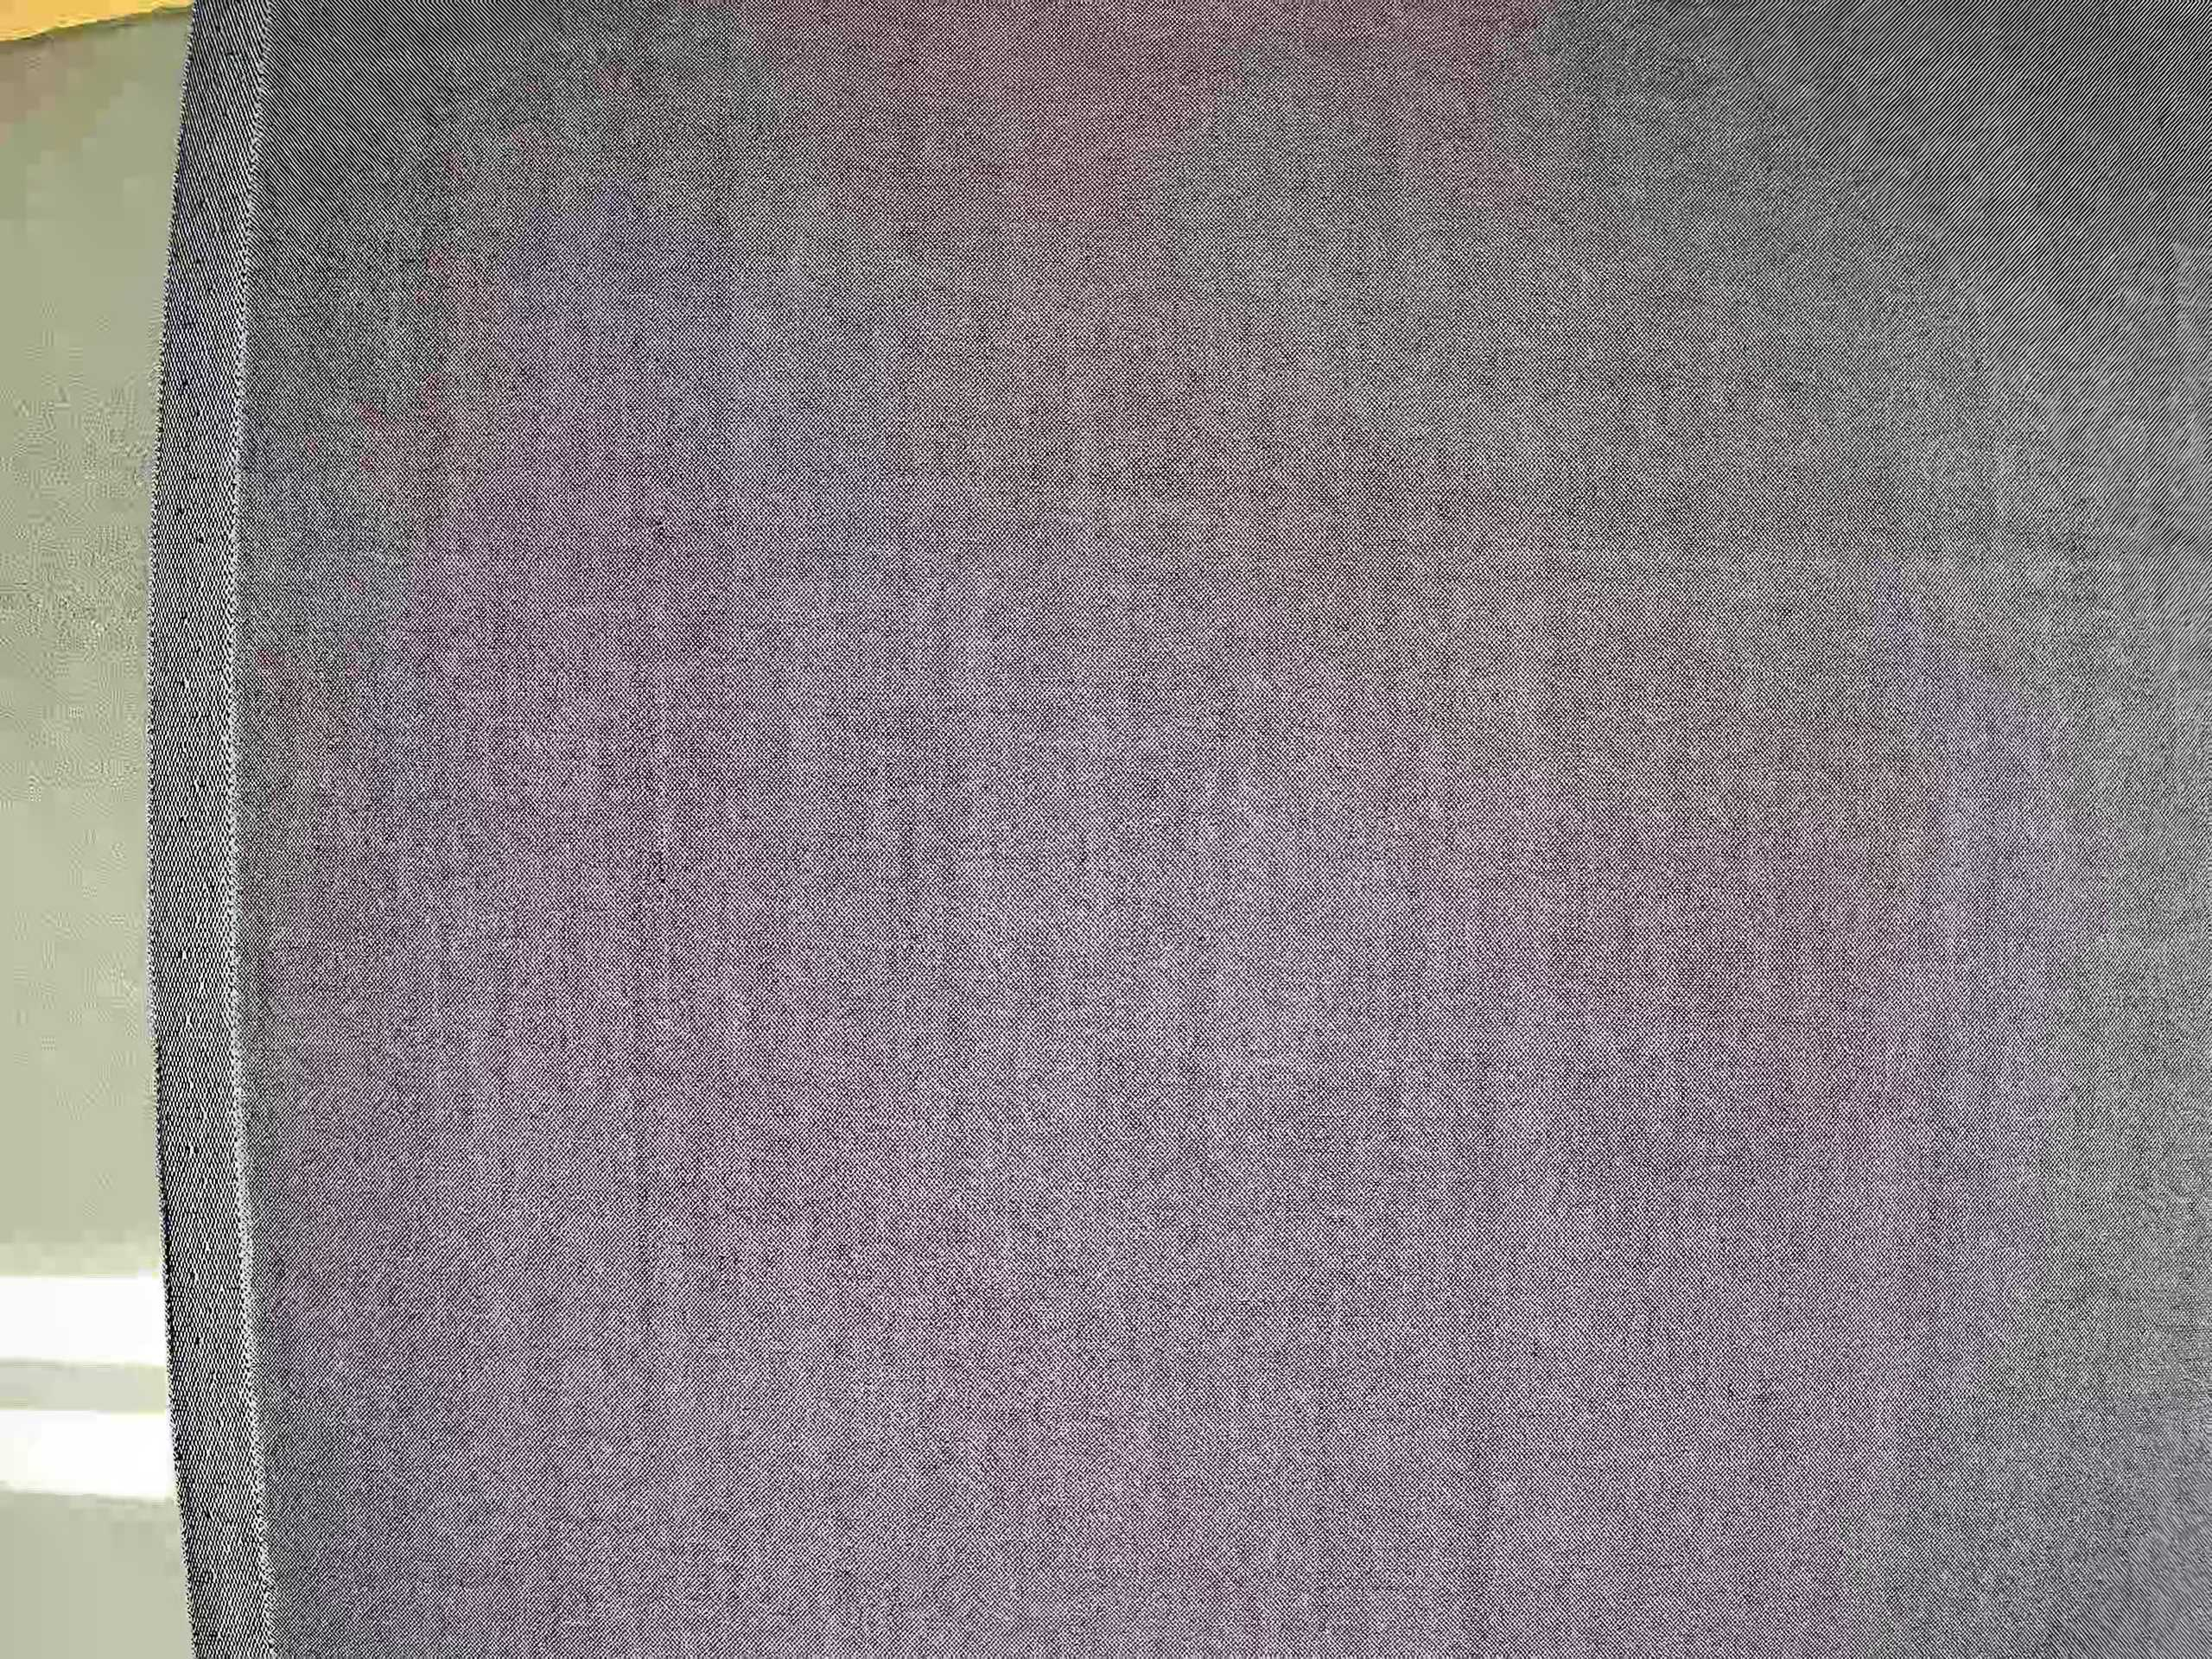hanging-warp: (622, 479, 695, 1352)
